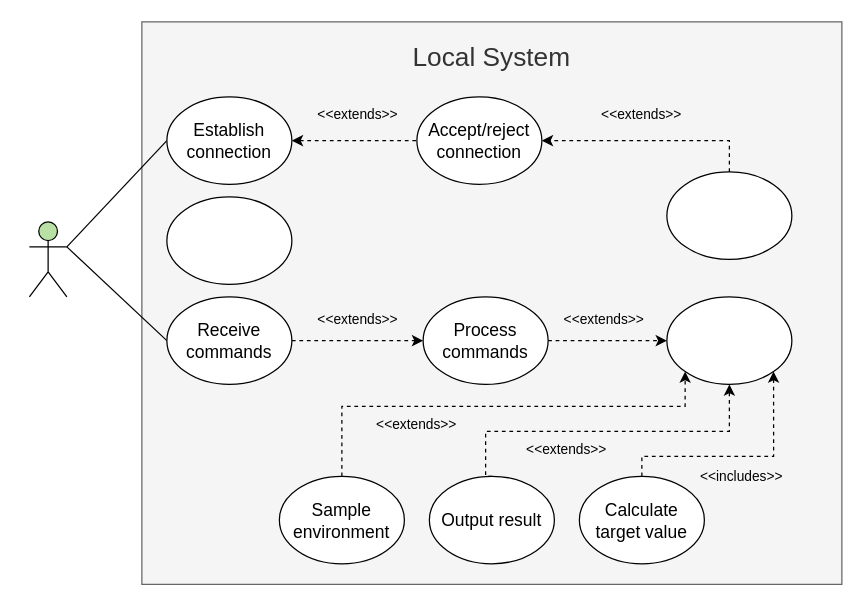
This 864x606 diagram has some shape labels left out. Each missing label, with the centre of its shape:
End connection: the point at 229,240
Remote System: the point at 47,259
Run RL Inference: the point at 729,340
Verify credentials: the point at 729,215
